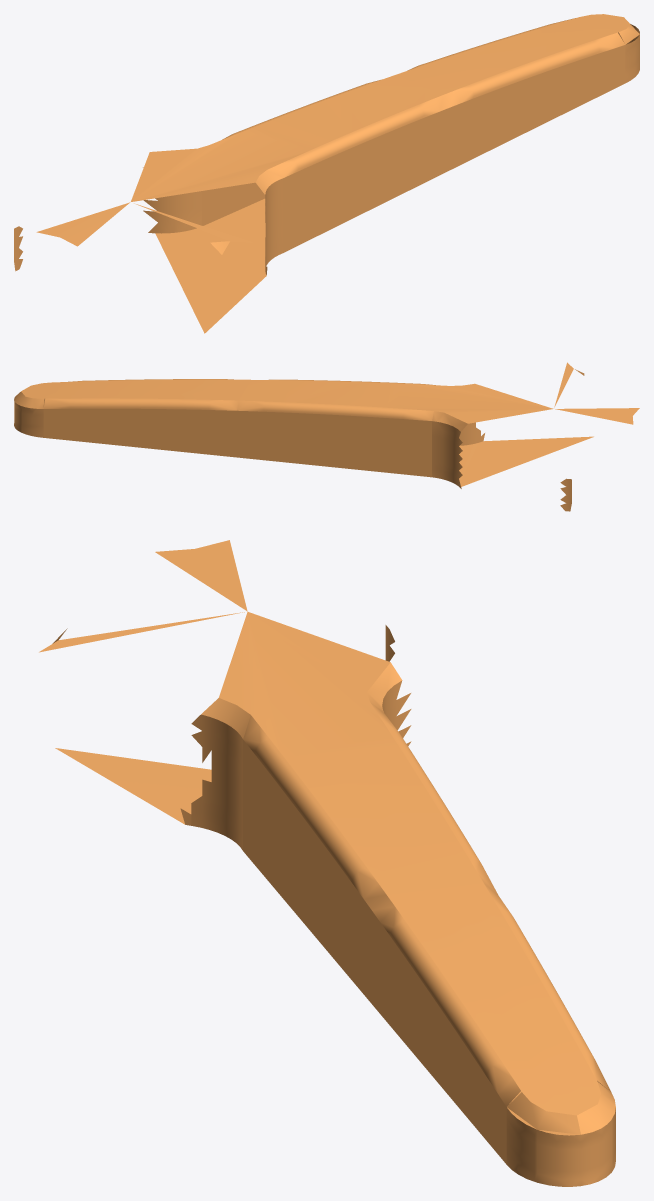
3 views of the same model, one above another, from view 1: azimuth 30°, elevation 25°; view 2: azimuth 150°, elevation 25°; view 3: azimuth 270°, elevation 25° (orthographic). The views are drawn at different scales.
Size of the model in its own units: 0.5859 by 0.0681 by 0.2756.
